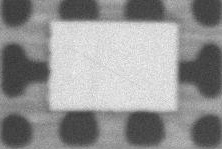DIE_CRACK: (101, 32, 209, 58)
